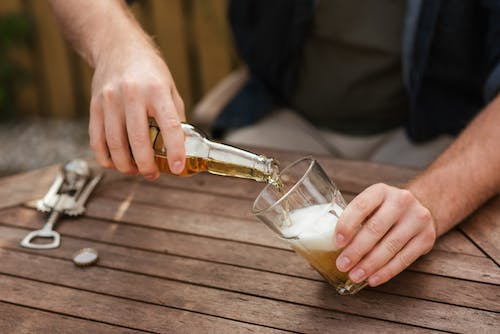alcohol: (250, 155, 369, 296), (105, 117, 282, 185)
